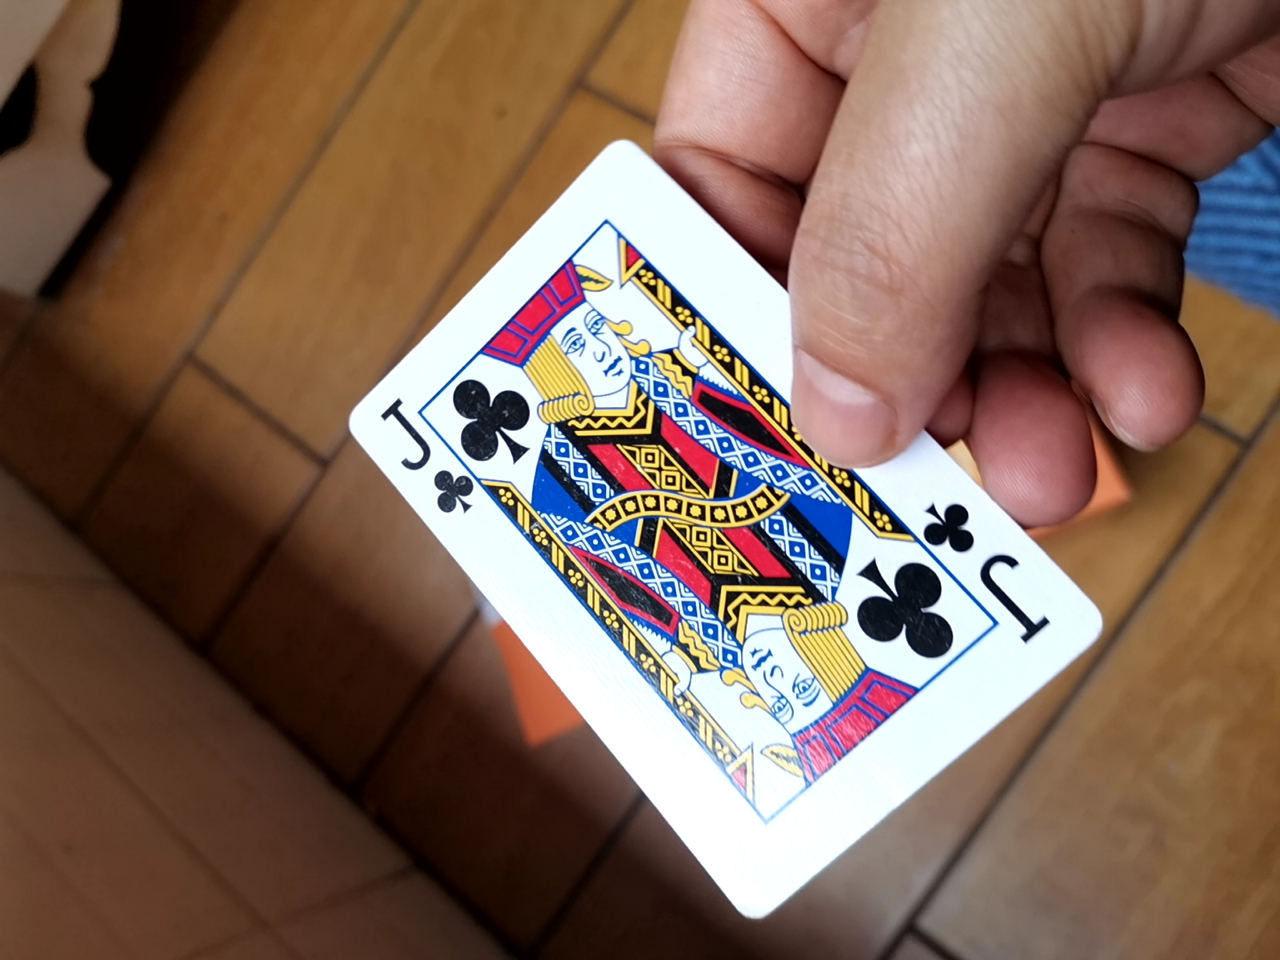mh j: (325, 131, 1077, 940)
